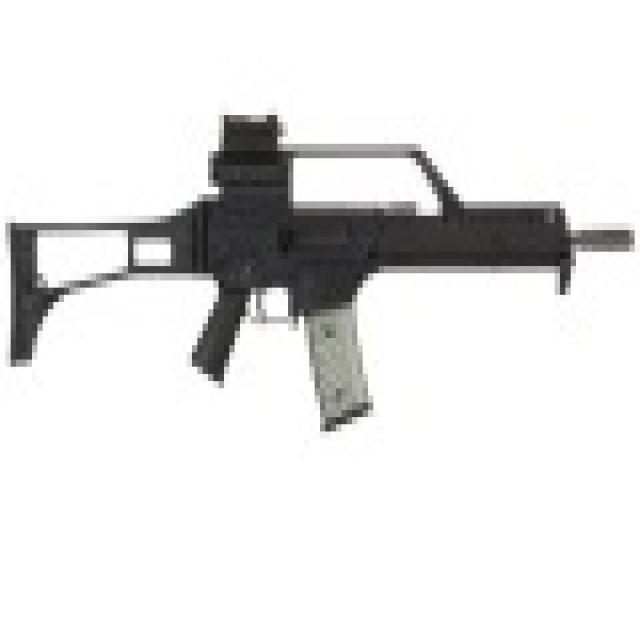Gun: (0, 79, 640, 453)
